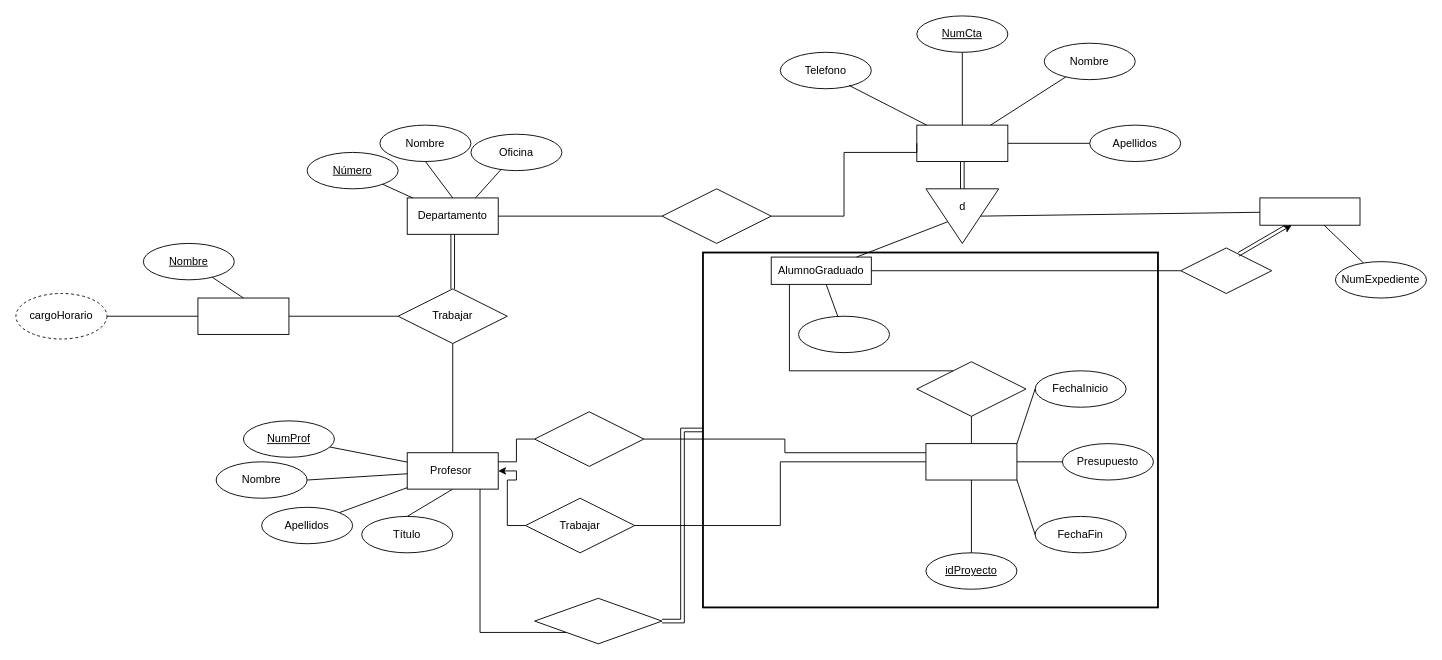
This 1442x660 diagram has some shape labels left out. Here are the shapes that lost their labels. From the top down, the centre of each, then its label:
At (962,143): "Alumno".
At (716,215): "Estudiar".
At (1309,211): "AlumnoNoGraduado".
At (1226,270): "Asesorar".
At (243,315): "Cargo".
At (844,334): "Titulo".
At (971,388): "Participar".
At (589,438): "Administrar".
At (971,461): "Proyecto".
At (598,620): "Supervisar".
